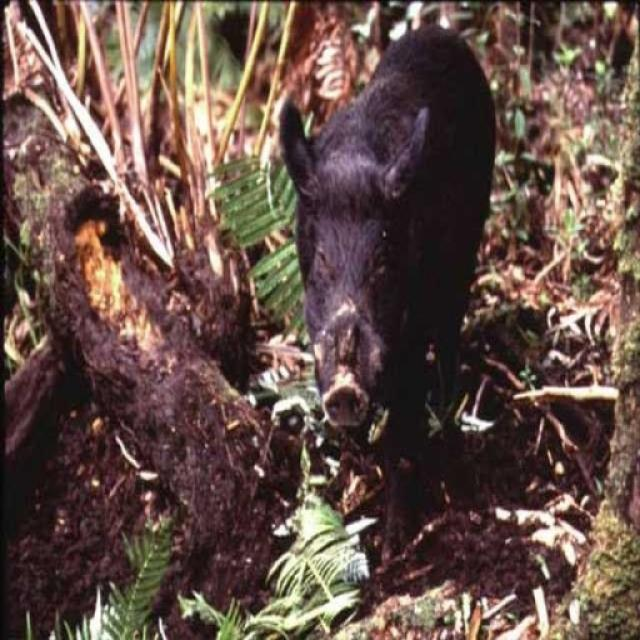pig: (241, 8, 526, 548)
